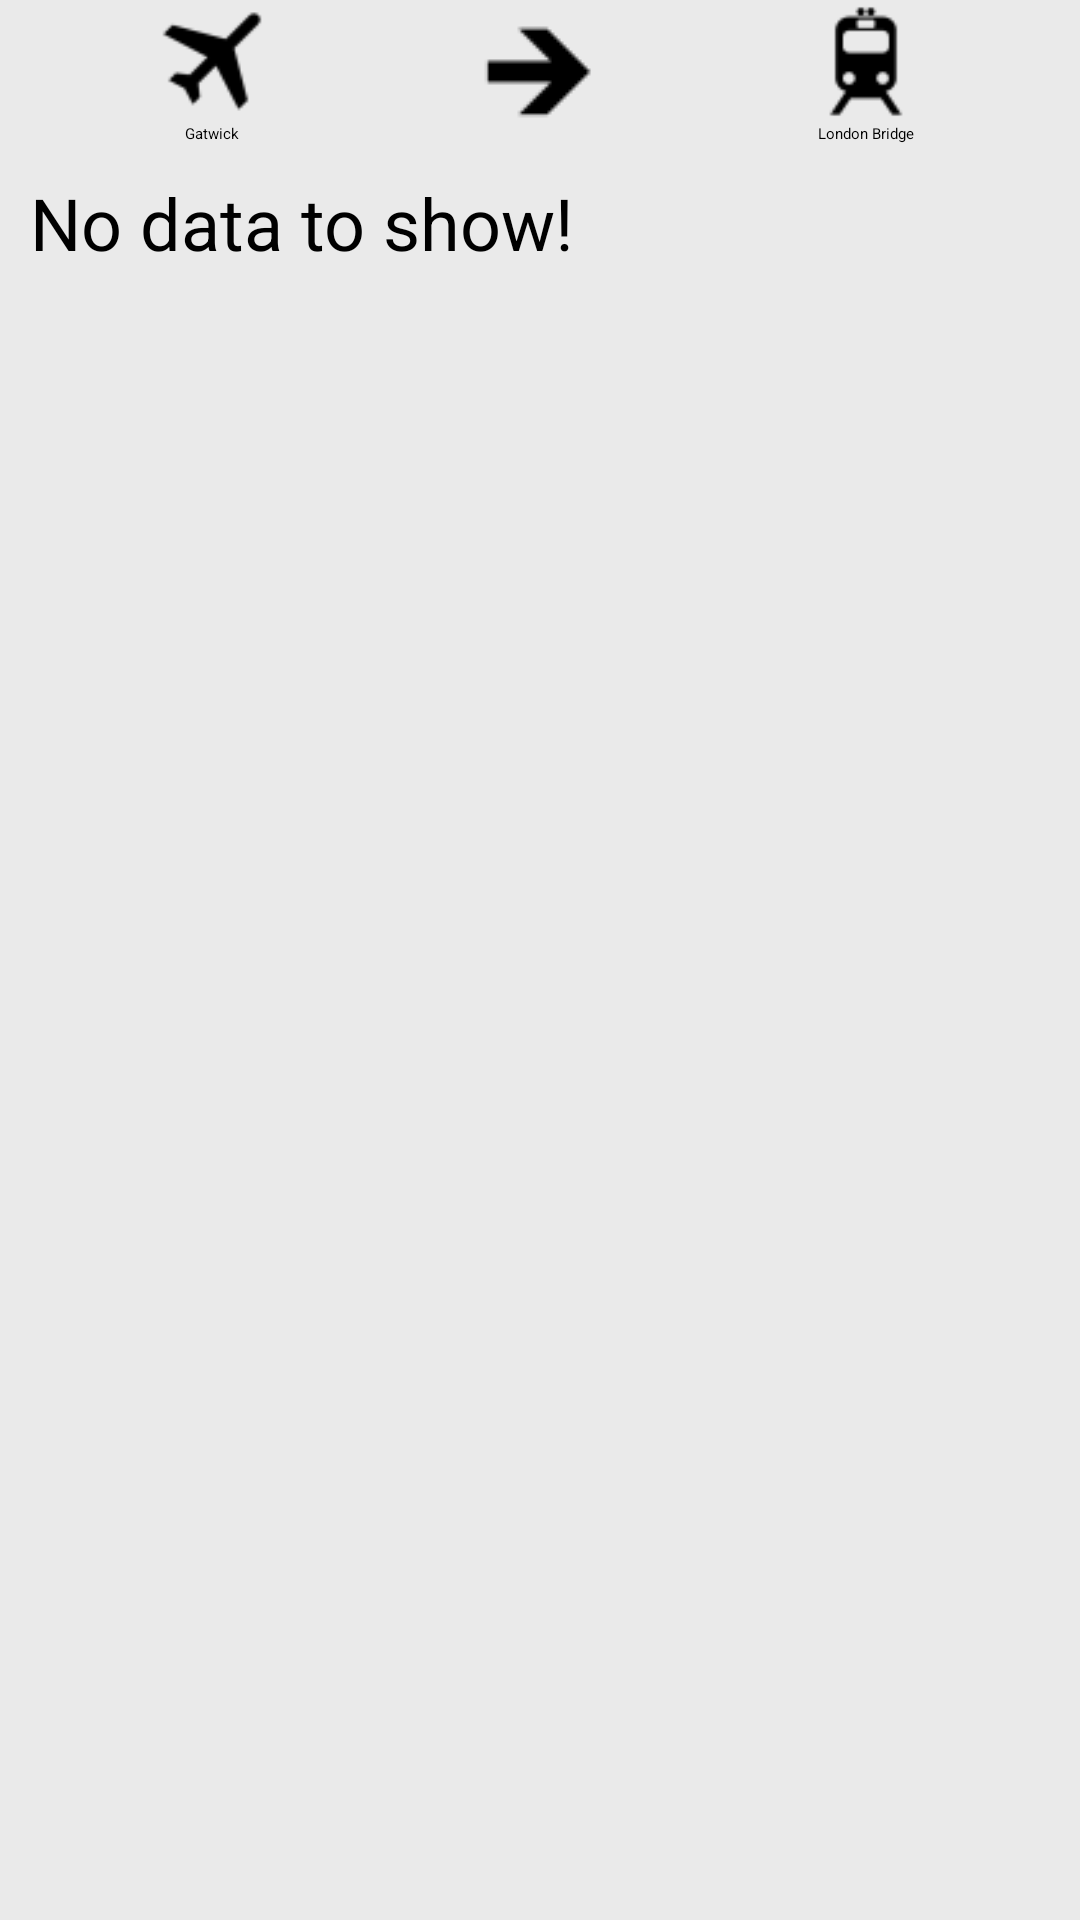

Icons on this 1080 × 1920 Android screen, each with the point to tap as point (x, y):
airport: point (212, 61)
arrow: point (538, 71)
train: point (865, 61)
